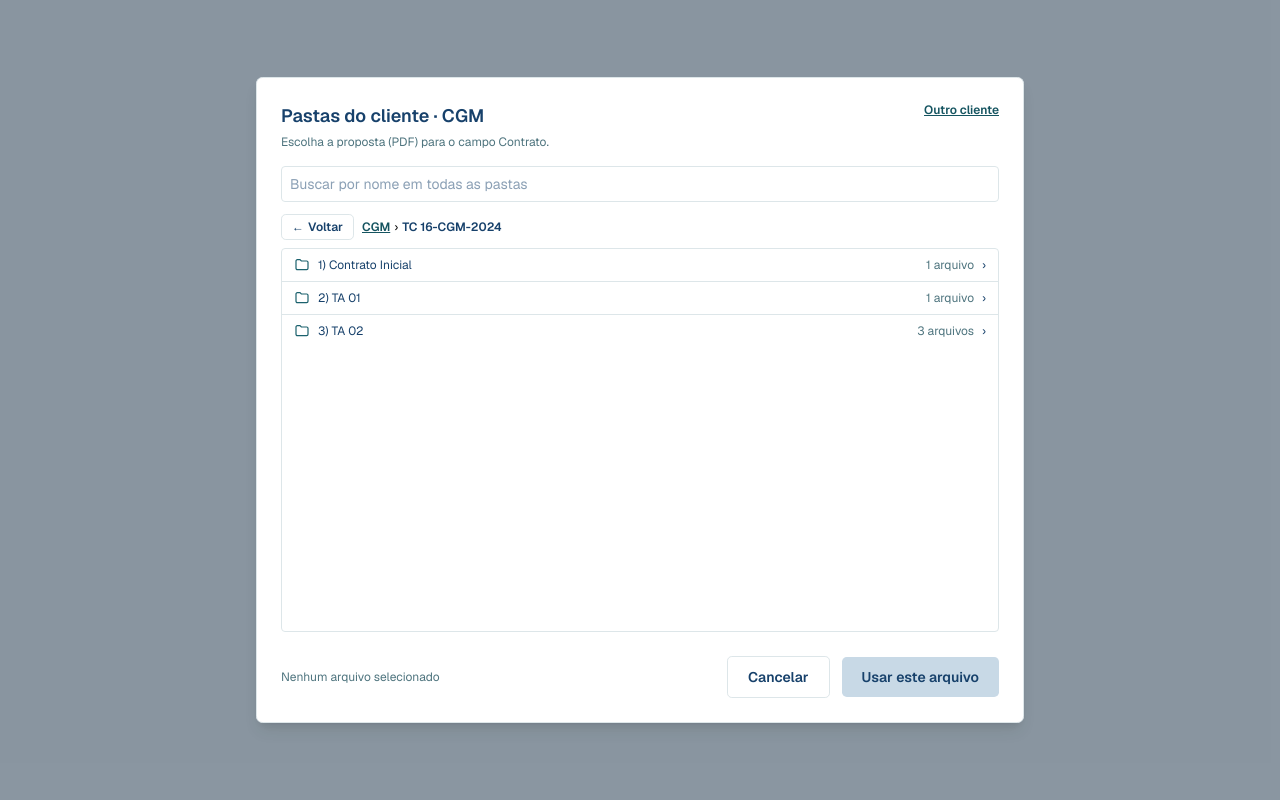
Test: PDFs antes dos outros arquivos
The width and height of the screenshot is (1280, 800).
Click the button "3) TA 02 3 arquivos ›".
click(341, 331)  # box top-left (282, 315), bottom-right (998, 347)
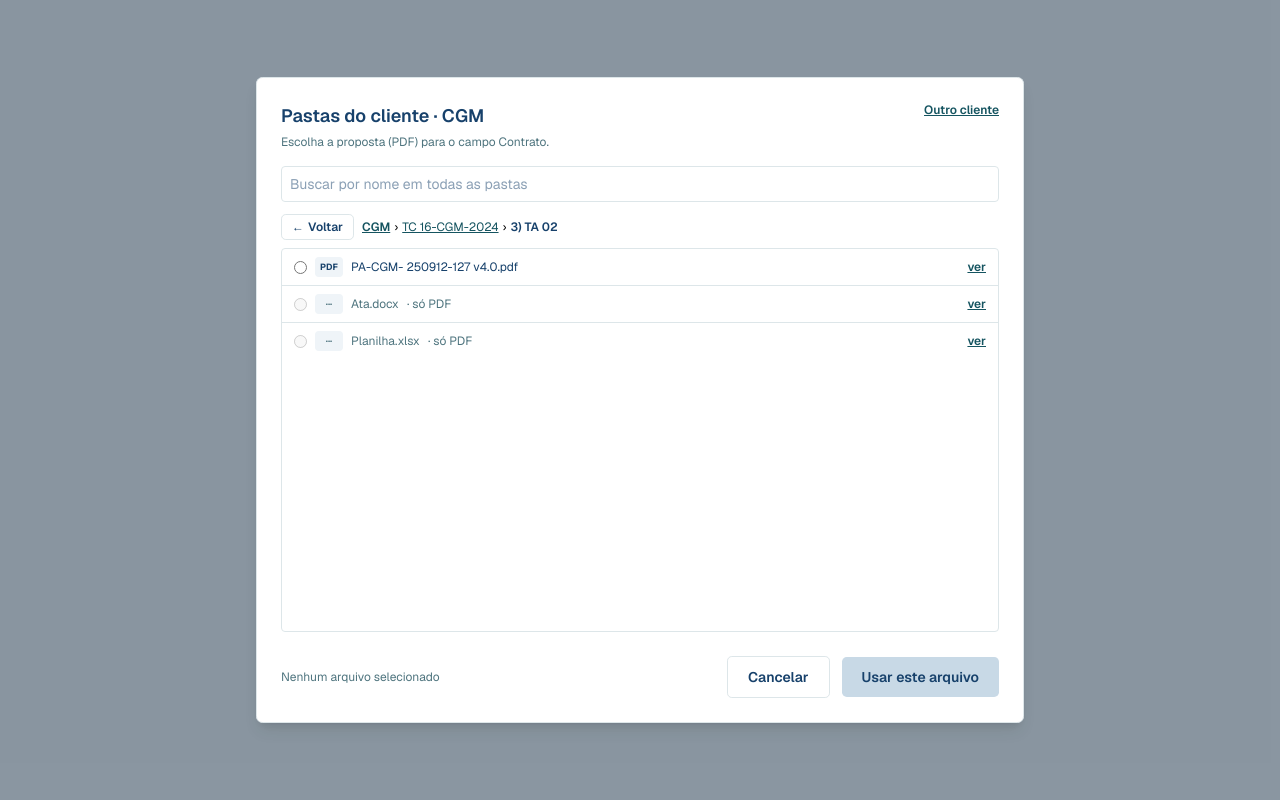
Expected: the label "PDF PA-CGM- 250912-127 v4.0.pdf" is shown, top-left (294, 257), bottom-right (518, 277)
